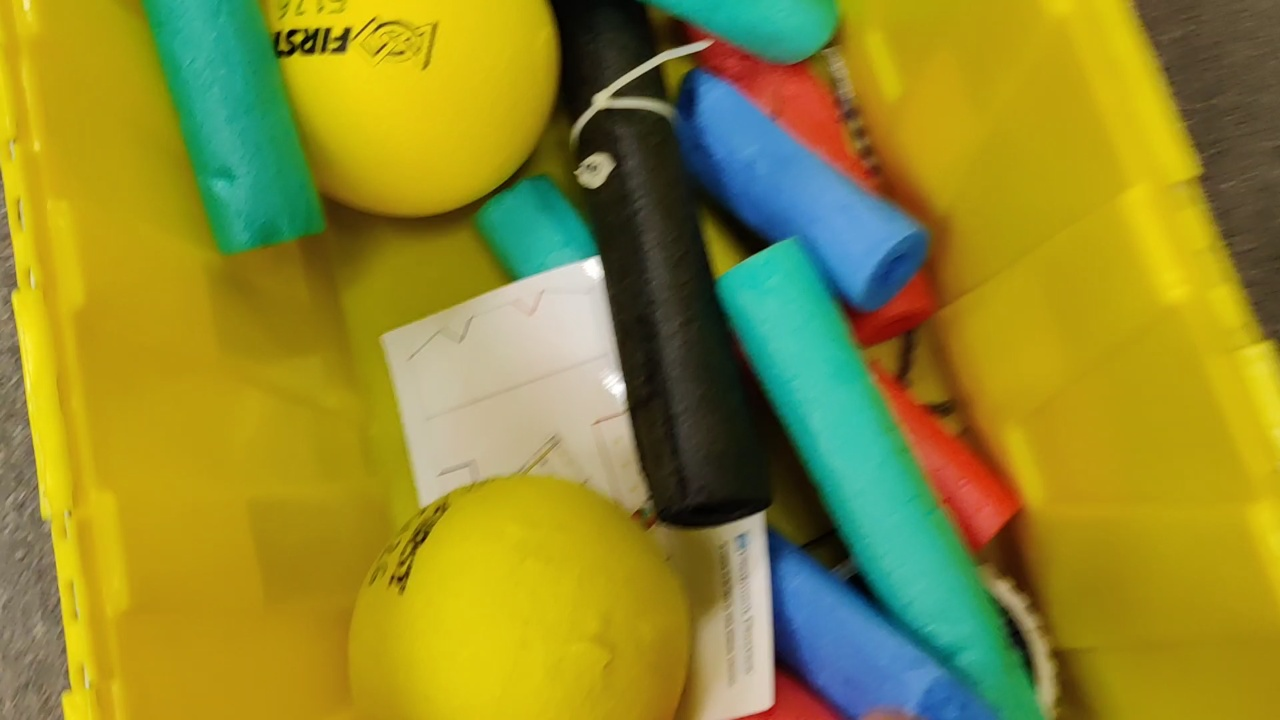Ball: (352, 475, 690, 720), (246, 1, 562, 215)
